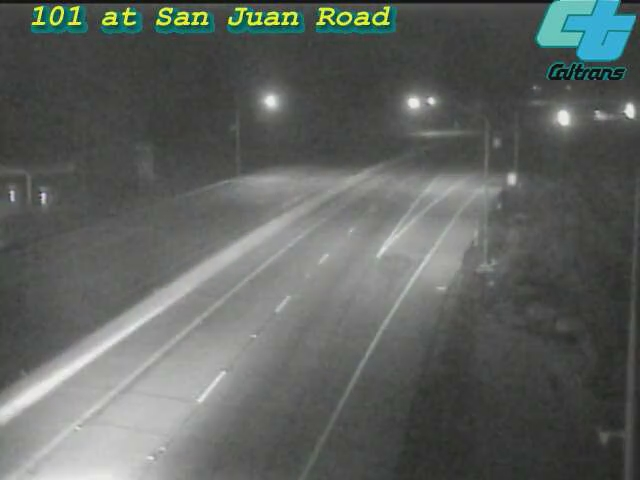vehicle: (578, 92, 628, 142), (539, 93, 589, 143), (604, 86, 640, 136)
